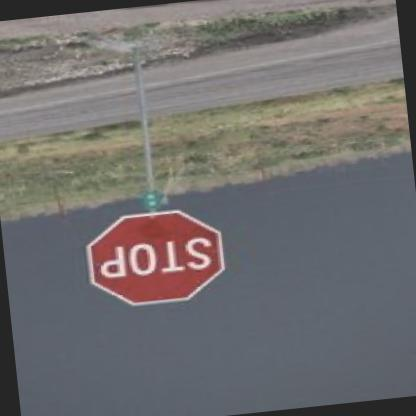stop: (83, 207, 230, 312)
